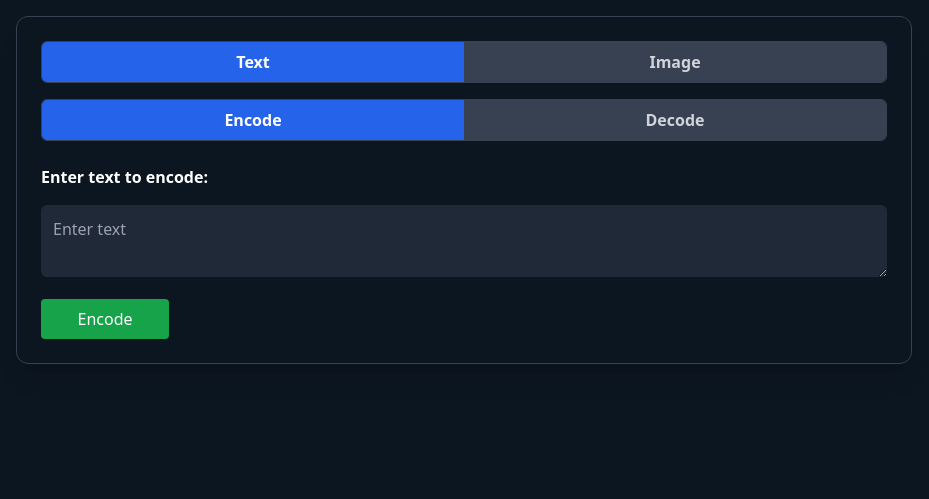
Test: Base64EncoderDecoder component › encodes text correctly
// submit text
Type "hello world" into the text box with placeholder "Enter text" at [464, 241], box [41,205,887,277]
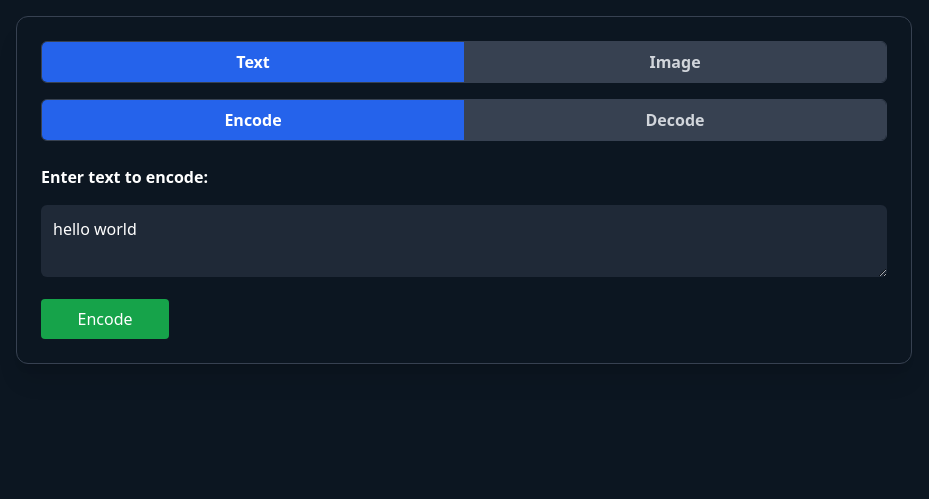
Click the button "Encode" below "Enter text to encode:" at [105, 319], box [41,299,169,339]
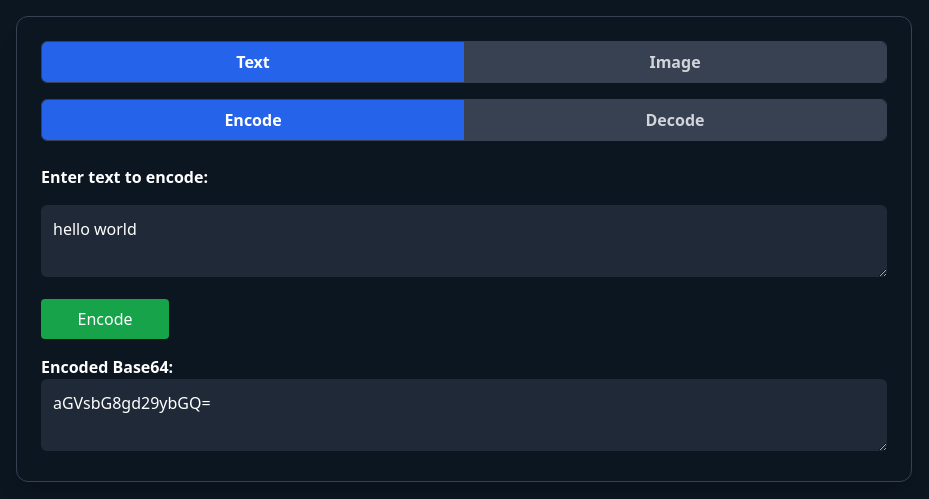
Result: the text box showing "aGVsbG8gd29ybGQ=" below "Encoded Base64:" is shown at [41,379,887,451]
